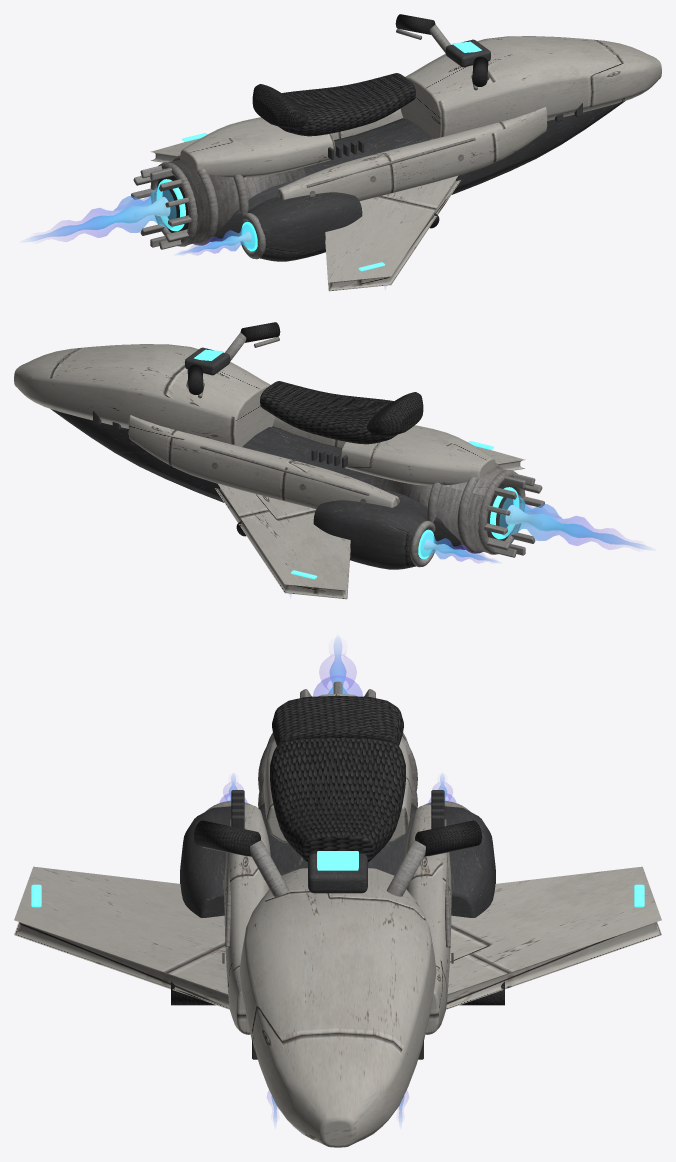
Rendered from HoverBike_MML.glb.
3 views of the same model, one above another, from view 1: azimuth 30°, elevation 25°; view 2: azimuth 150°, elevation 25°; view 3: azimuth 270°, elevation 25° (orthographic). The views are drawn at different scales.
Parts seen in each view (by area): view 1: SM_Boneyard_HoverBike, Jet_rear, Jet_side_r; view 2: SM_Boneyard_HoverBike, Jet_rear, Jet_side_l; view 3: SM_Boneyard_HoverBike, Jet_rear.
Boxes of the visible parts, x1=… form: SM_Boneyard_HoverBike: x1=131, y1=14, x2=661, y2=291; Jet_rear: x1=29, y1=185, x2=176, y2=241; Jet_side_r: x1=178, y1=224, x2=255, y2=254; SM_Boneyard_HoverBike: x1=14, y1=322, x2=544, y2=599; Jet_rear: x1=499, y1=493, x2=646, y2=549; Jet_side_l: x1=420, y1=532, x2=497, y2=562; SM_Boneyard_HoverBike: x1=14, y1=681, x2=661, y2=1147; Jet_rear: x1=313, y1=639, x2=362, y2=696.
Size of the model in its own units: 4.25 by 1.39 by 2.17.
Materials: 6 (5 with a texture image).
